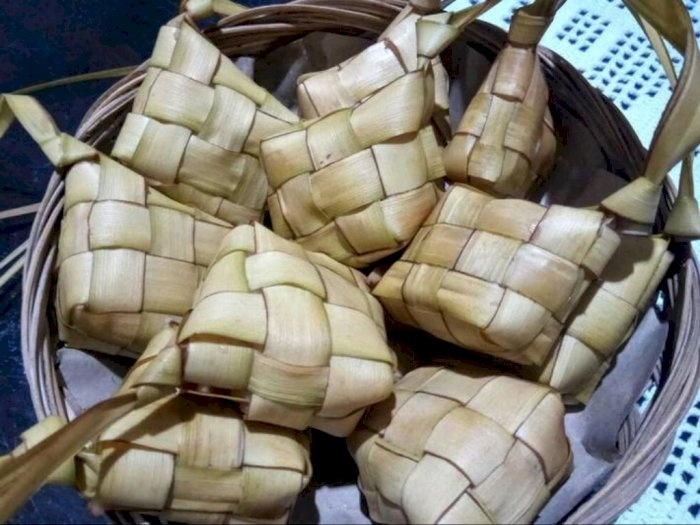ketupat: (169, 223, 400, 439), (372, 183, 622, 367), (112, 16, 296, 230), (271, 68, 437, 276)
